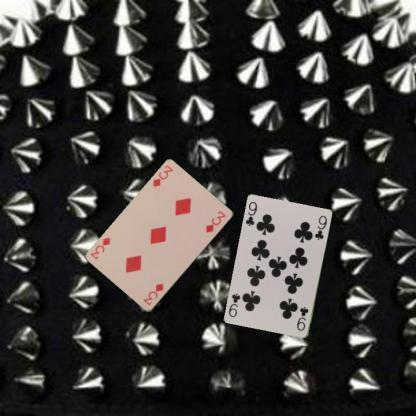3d: (150, 162, 174, 190), (142, 281, 165, 307)
9c: (294, 304, 310, 332), (244, 199, 258, 228)
